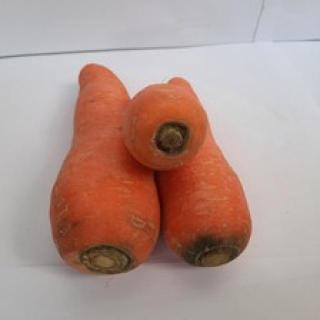carrot: (36, 60, 161, 274), (165, 75, 251, 268), (121, 80, 212, 172)
